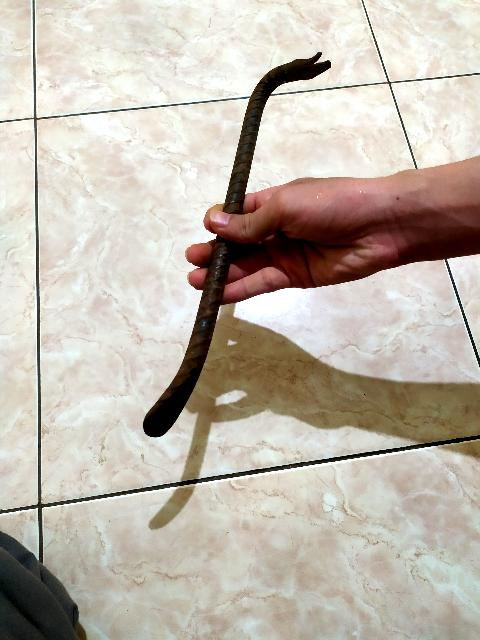crow bar: (133, 38, 347, 450)
